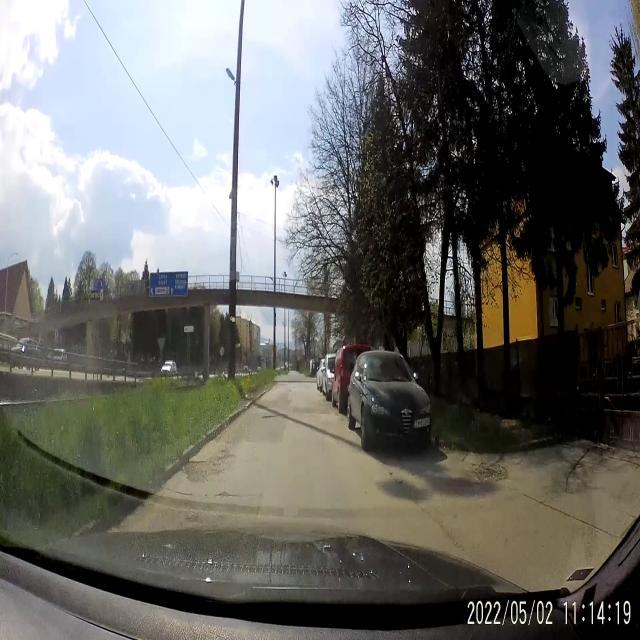Pothole: (182, 456, 225, 483), (218, 486, 238, 502)
